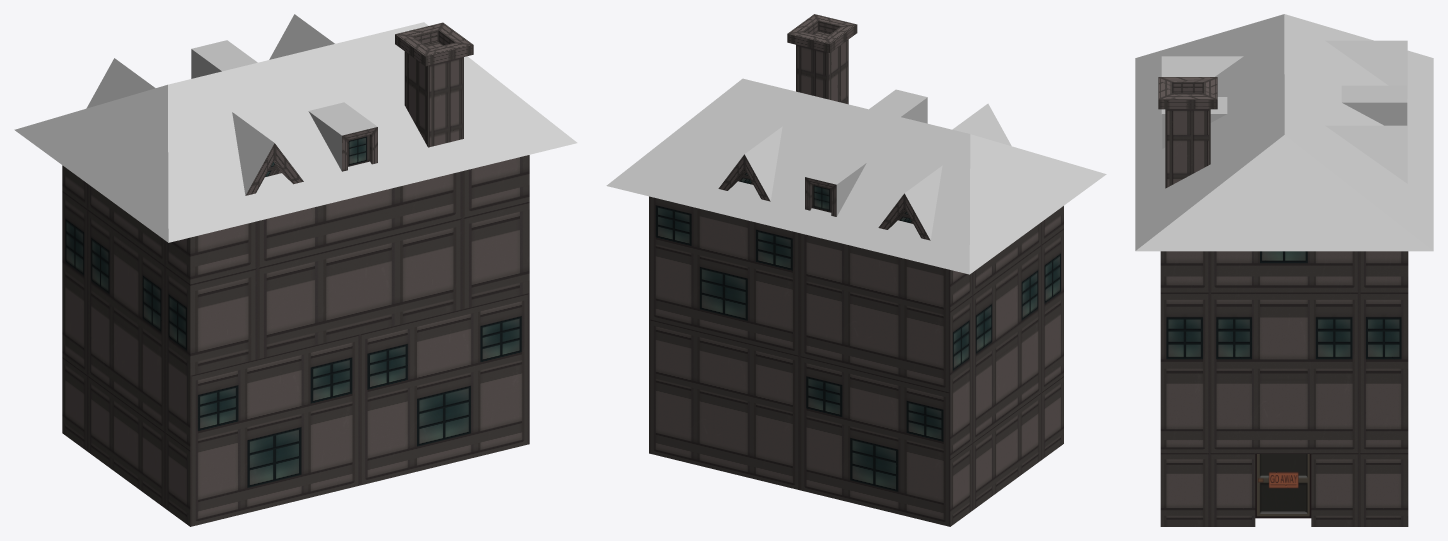
File: House2.fbx
The picture shows the model from 3 angles, left to right: view 1: azimuth 30°, elevation 25°; view 2: azimuth 150°, elevation 25°; view 3: azimuth 270°, elevation 25°; orthographic projection. The views are drawn at different scales.
Visible parts, largest first — view 1: Cube.001; view 2: Cube.001; view 3: Cube.001.
Boxes of the visible parts, box(x1,y1,x2,y2) form: Cube.001: box(14, 14, 577, 526); Cube.001: box(606, 14, 1106, 526); Cube.001: box(1135, 14, 1433, 526).
Bounding box in the file's own units: 37.32 × 36.09 × 24.39.
